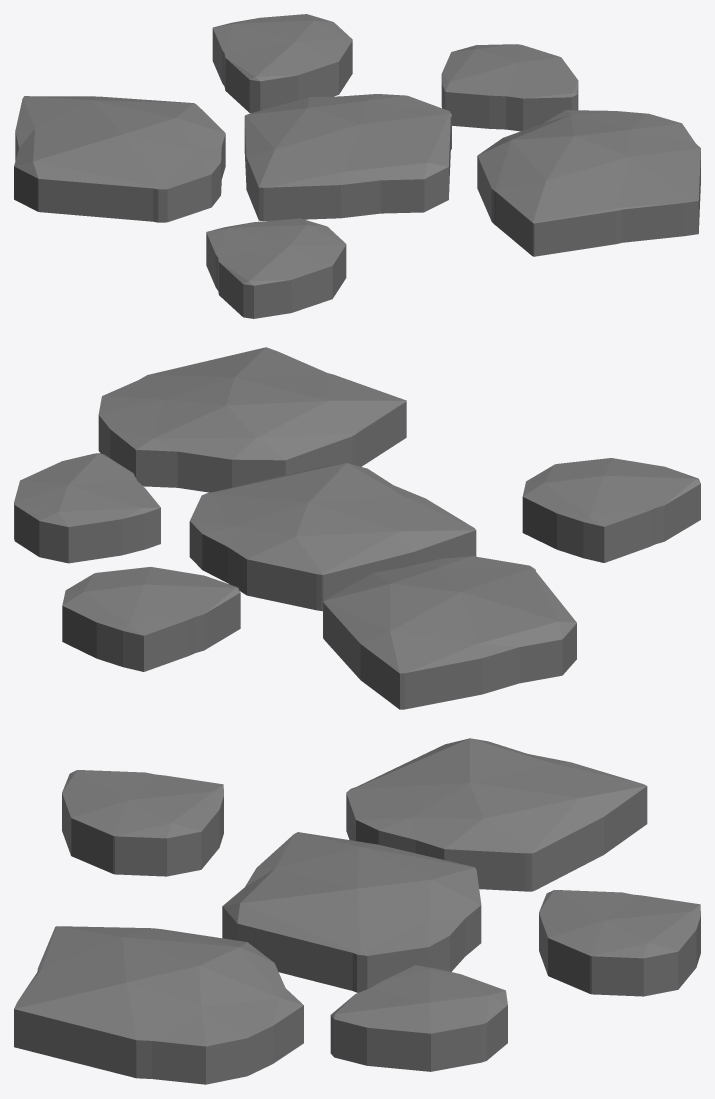
Rendered from path.obj.
The picture shows the model from 3 angles, top to bottom: view 1: azimuth 30°, elevation 25°; view 2: azimuth 150°, elevation 25°; view 3: azimuth 270°, elevation 25°; orthographic projection. The views are drawn at different scales.
Parts seen in each view (by area): view 1: Icosphere.005; view 2: Icosphere.005; view 3: Icosphere.005.
Part boxes in pixels (x1,y1,x2,y2): Icosphere.005: [14, 14, 700, 318]; Icosphere.005: [14, 347, 700, 709]; Icosphere.005: [14, 738, 700, 1084].
Size of the model in its own units: 1.72 by 0.1492 by 1.63.
Materials: 1 (1 with a texture image).
